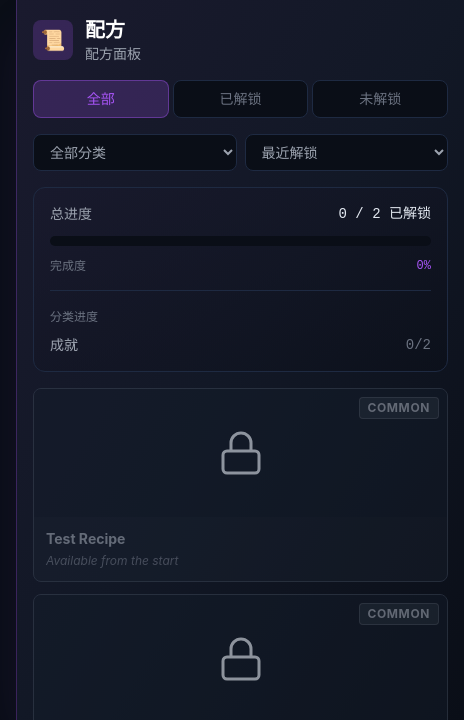
RecipePanel Component › Empty States › displays empty state when no unlocked recipes exist
Click the button with test id "recipe-tab-unlocked" at (241, 99), box [173,80,308,118]
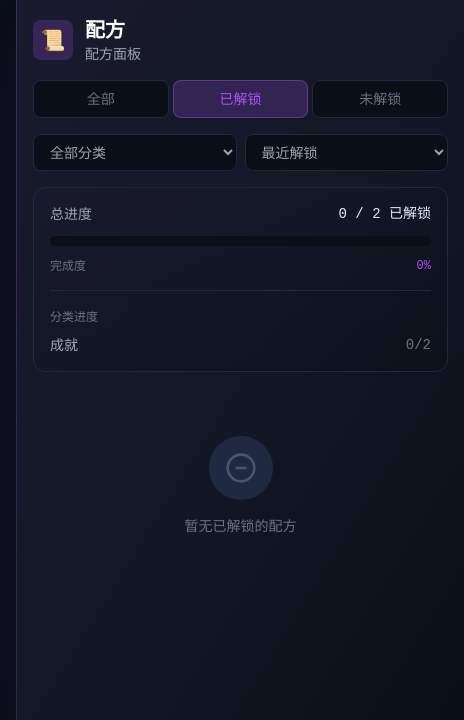
Now the element with test id "recipe-empty-state" is shown, box [184,436,296,534]
